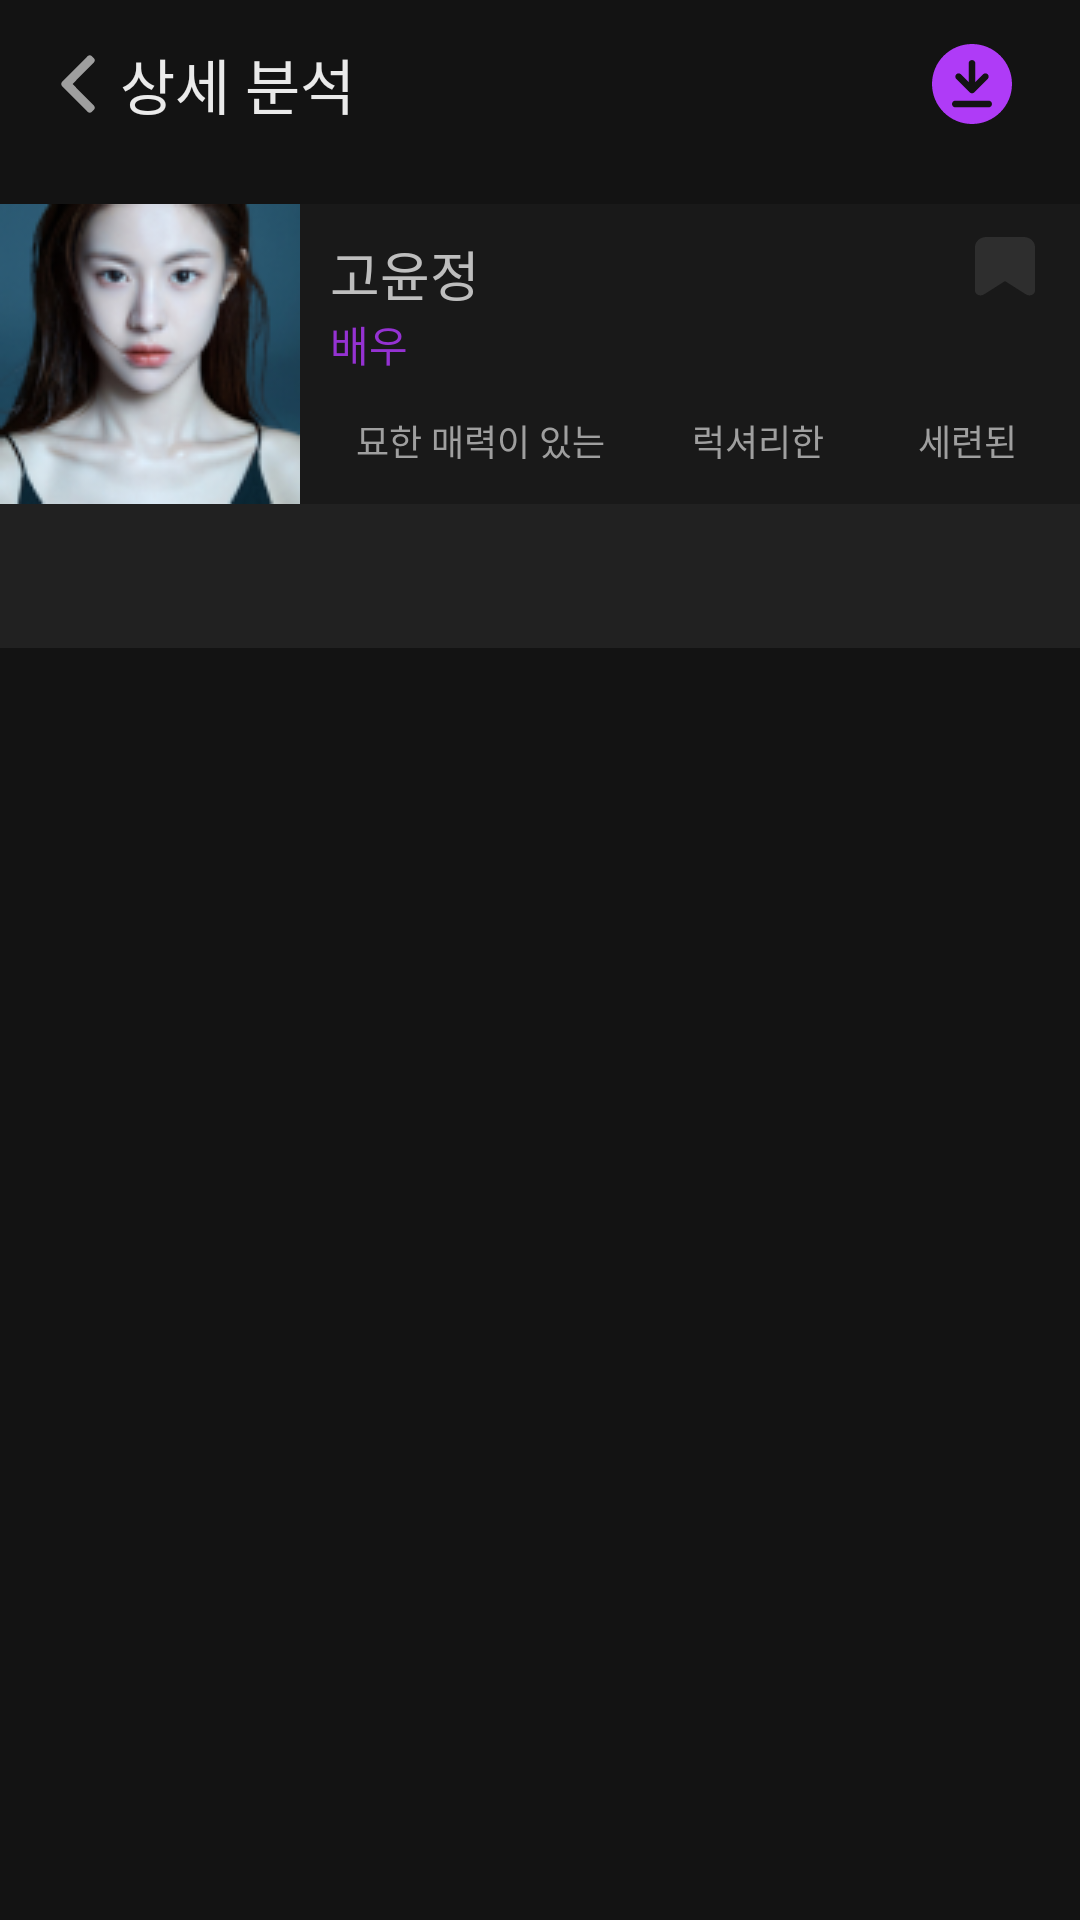

Icon click points for this 1080×1920 phone screenshot, format (x,y):
다운로드 이미지: (972,84)
